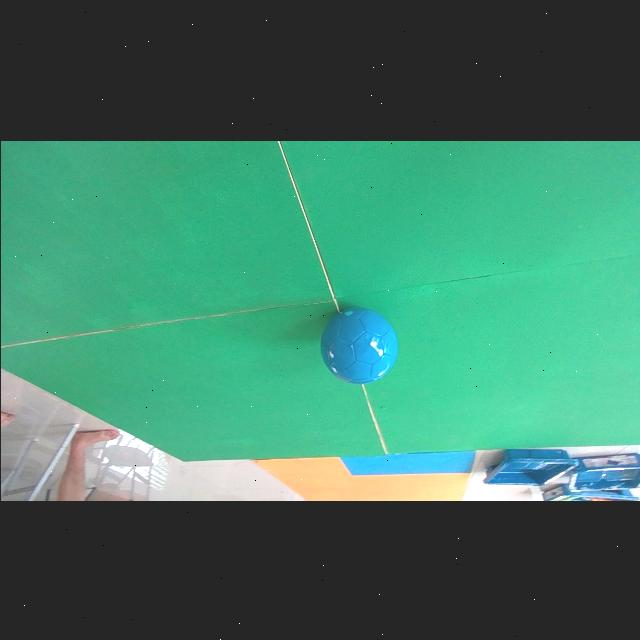B: (319, 306, 396, 383)
